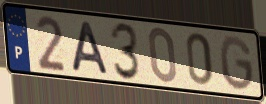0: (147, 26, 179, 85), (184, 30, 215, 88)
2: (33, 13, 68, 74)
3: (109, 21, 142, 82)
A: (69, 19, 111, 76)
G: (218, 34, 256, 94)
